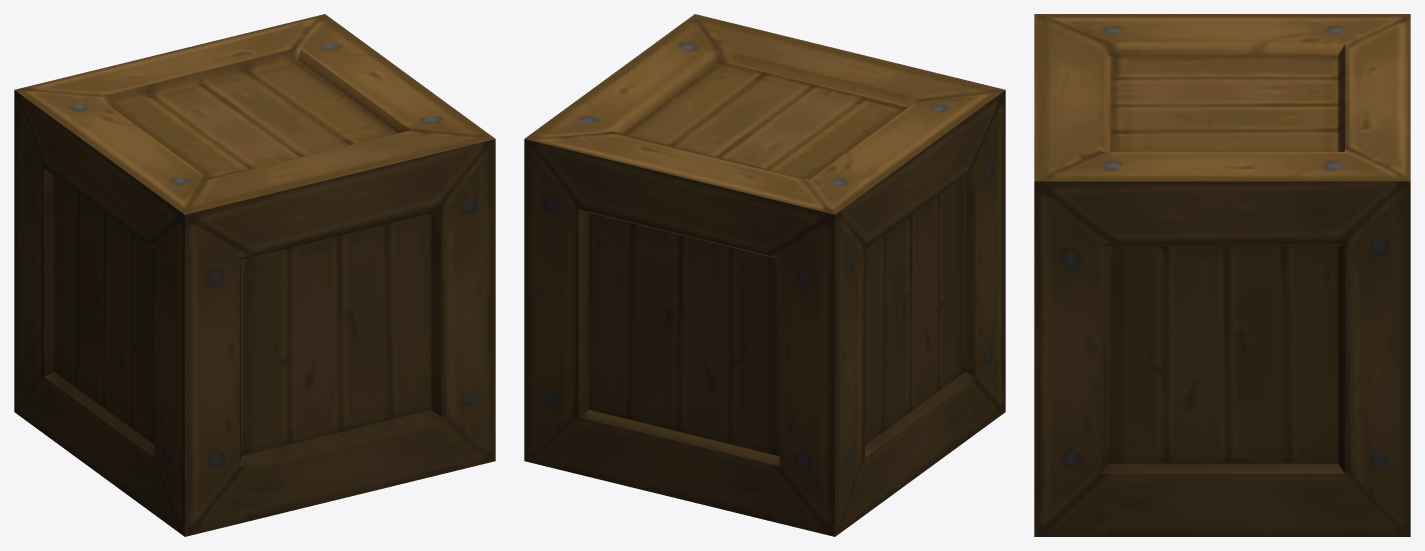
Rendered from OutdoorM_Crate_a.FBX.
3 renders of one model, left to right at view 1: azimuth 30°, elevation 25°; view 2: azimuth 150°, elevation 25°; view 3: azimuth 270°, elevation 25°, orthographic. The views are drawn at different scales.
Parts seen in each view (by area): view 1: OutdoorM_Crate_a; view 2: OutdoorM_Crate_a; view 3: OutdoorM_Crate_a.
Boxes of the visible parts, <box> form: OutdoorM_Crate_a: <box>14,14,495,536</box>; OutdoorM_Crate_a: <box>524,14,1005,536</box>; OutdoorM_Crate_a: <box>1034,14,1410,536</box>.
Size of the model in its own units: 7.58 by 7.51 by 7.2.
